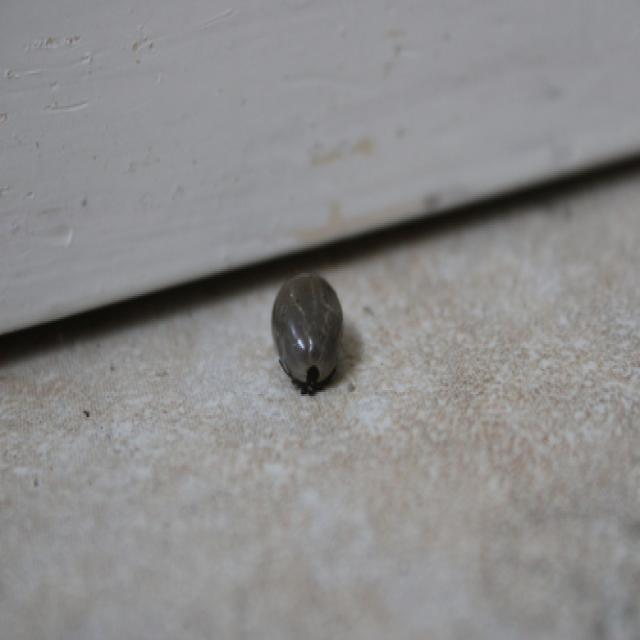Ixodes Ricinus-F-Fed: (269, 275, 356, 398)
